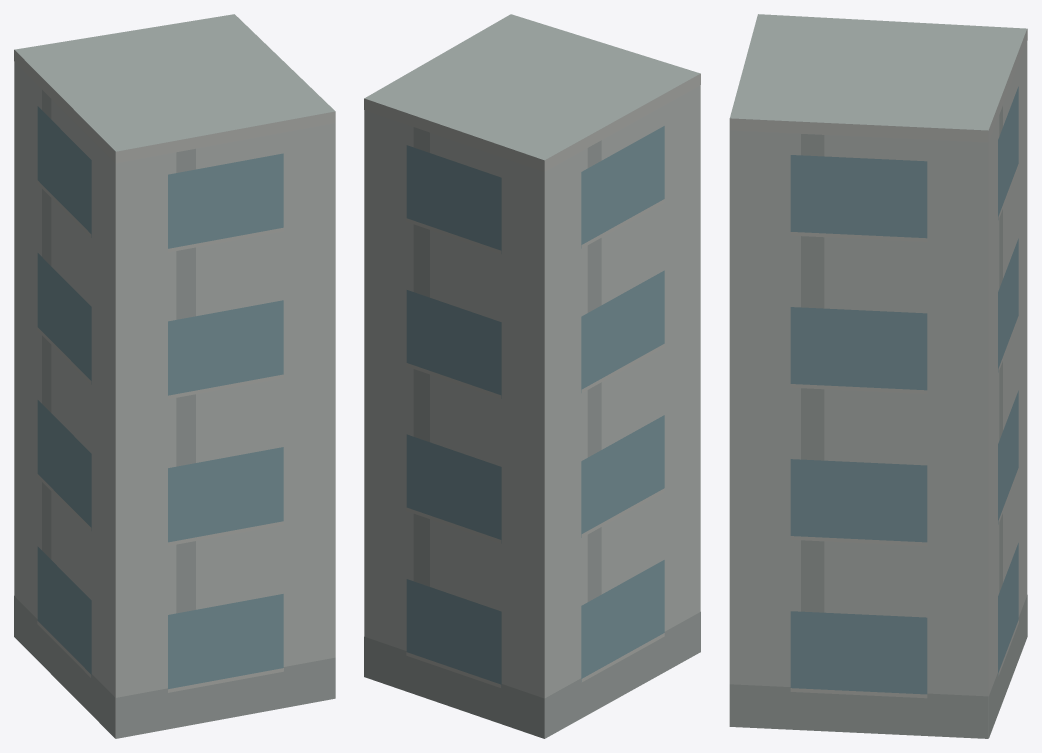
The model's file is survey-upis-32517337.glb.
The picture shows the model from 3 angles, left to right: view 1: azimuth 30°, elevation 25°; view 2: azimuth 150°, elevation 25°; view 3: azimuth 270°, elevation 25°; orthographic projection. The views are drawn at different scales.
Visible parts, largest first — view 1: survey-upis-32517337.tmp; view 2: survey-upis-32517337.tmp; view 3: survey-upis-32517337.tmp.
Boxes of the visible parts, x1,y1,x2,y2 form: survey-upis-32517337.tmp: (14,14,335,738); survey-upis-32517337.tmp: (364,14,700,738); survey-upis-32517337.tmp: (729,14,1027,738).
Bounding box in the file's own units: 5.02 × 12.2 × 5.42.
